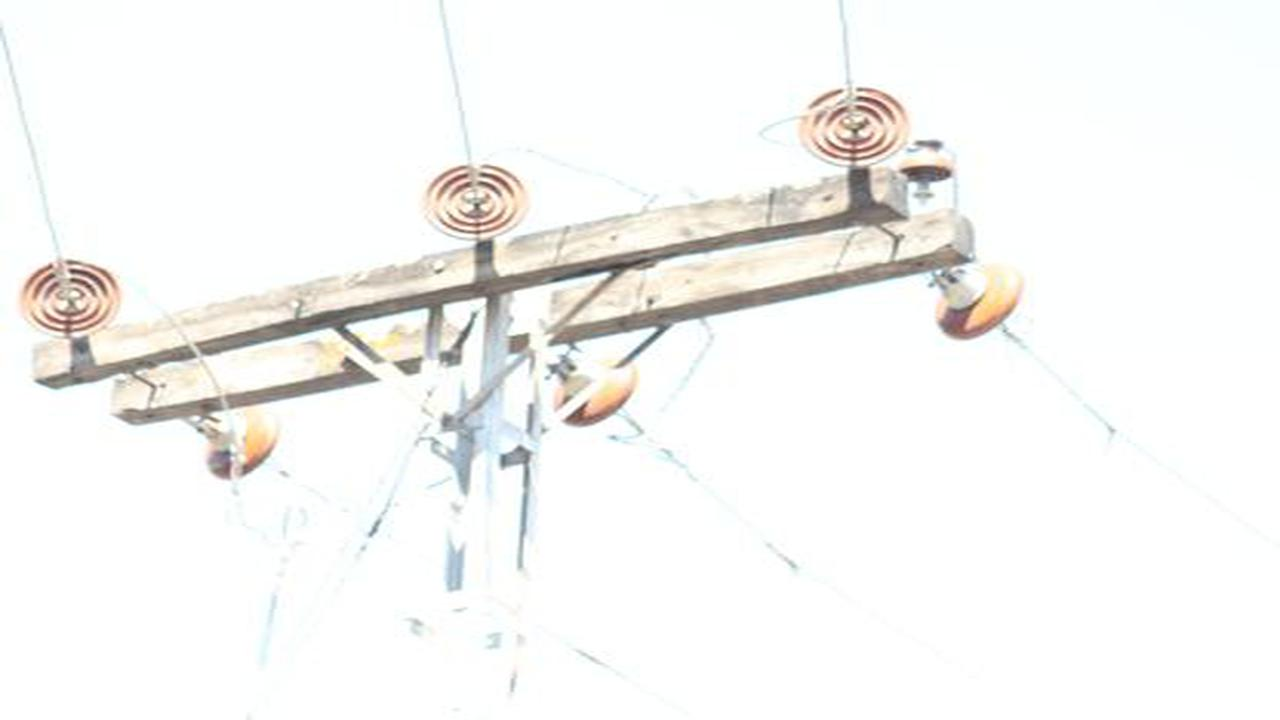insulator_disc: (421, 160, 532, 245), (17, 255, 125, 342), (926, 253, 1034, 340), (795, 83, 907, 166), (550, 349, 640, 427), (195, 409, 287, 485)
insulator_pin: (911, 139, 956, 185)
